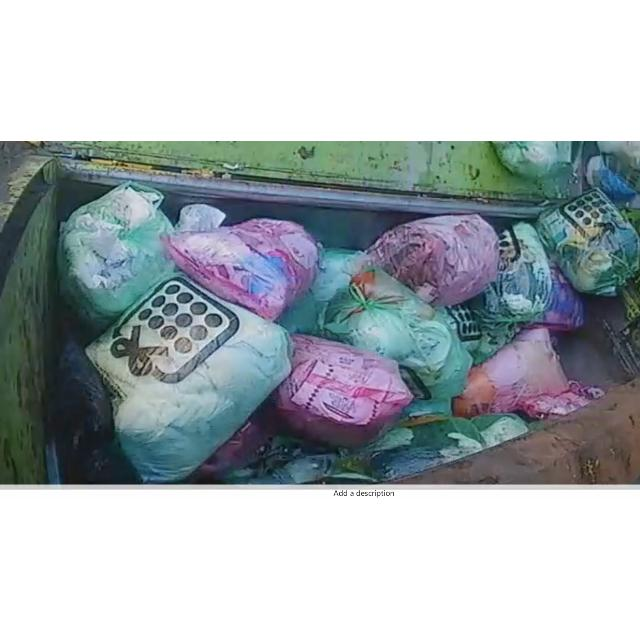general_trashbag: (86, 272, 291, 482), (322, 266, 472, 400), (58, 180, 175, 324), (536, 186, 640, 294), (484, 221, 552, 321)
other_trashbag: (264, 334, 412, 448), (165, 218, 319, 319), (454, 328, 602, 418), (368, 214, 499, 305)
